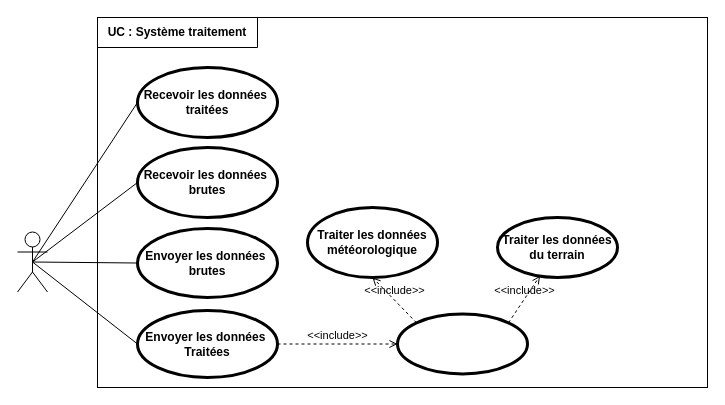
This 725x405 diagram has some shape labels left out. The box of each missing label's shape, as (x1, y1, x2, y2) in pixels:
BDD: (16, 231, 48, 292)
Traiter les données archivés: (396, 312, 528, 375)
